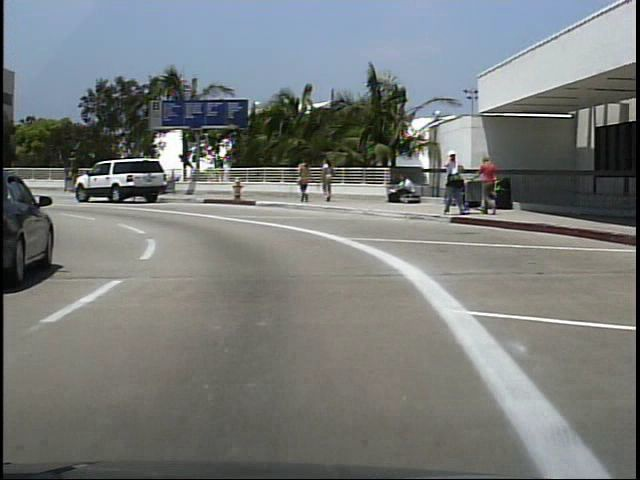person: (444, 148, 469, 221), (478, 154, 500, 216), (297, 156, 314, 206), (319, 159, 335, 208), (391, 175, 414, 205)
